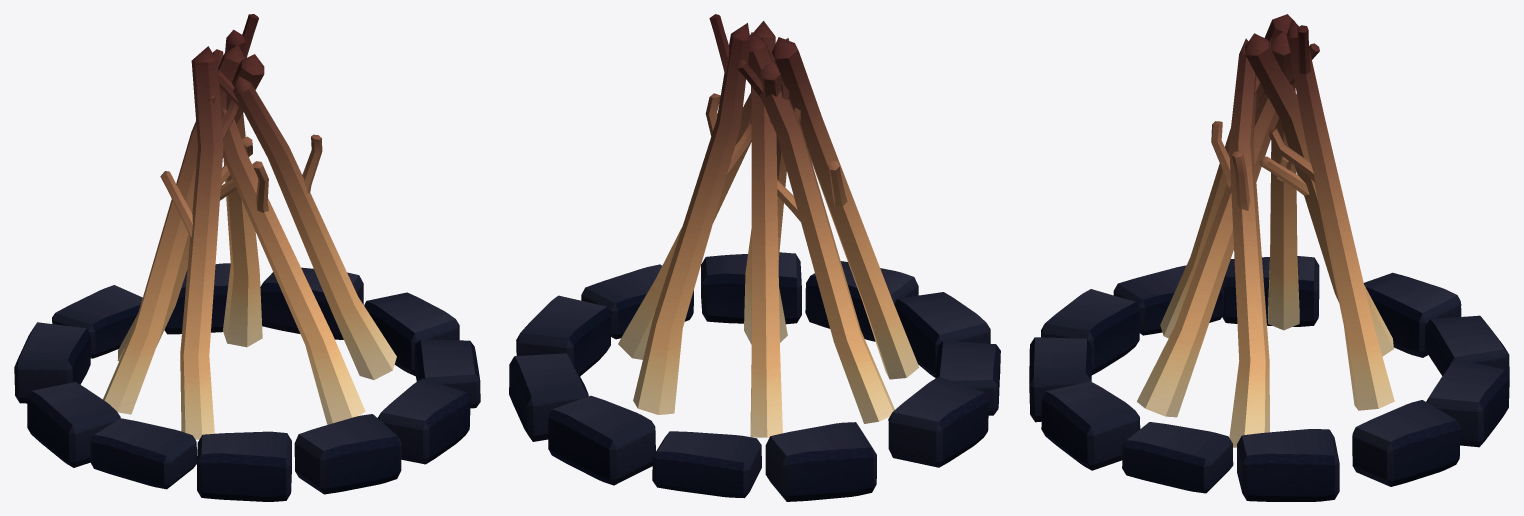
File: Campfire.fbx
The picture shows the model from 3 angles, left to right: view 1: azimuth 30°, elevation 25°; view 2: azimuth 150°, elevation 25°; view 3: azimuth 270°, elevation 25°; orthographic projection. The views are drawn at different scales.
Parts seen in each view (by area): view 1: pCylinder13; view 2: pCylinder13; view 3: pCylinder13.
Boxes of the visible parts, x1=… form: pCylinder13: x1=14, y1=14, x2=480, y2=501; pCylinder13: x1=509, y1=14, x2=1000, y2=501; pCylinder13: x1=1029, y1=14, x2=1509, y2=501.
Size of the model in its own units: 22.54 by 20.16 by 22.51.
Materials: 1 (1 with a texture image).
